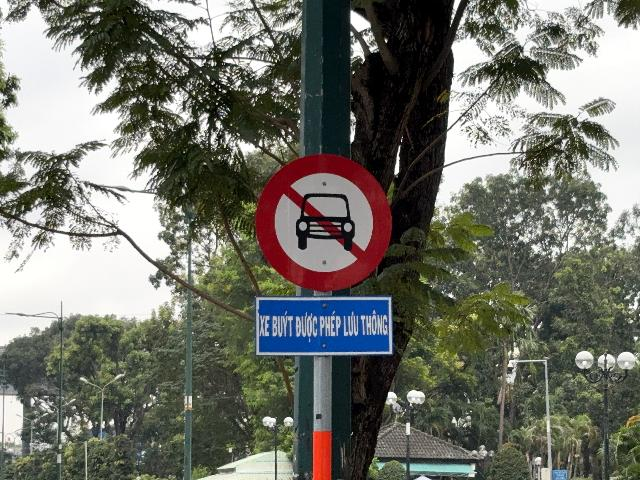cam-o-to: (256, 154, 392, 291)
